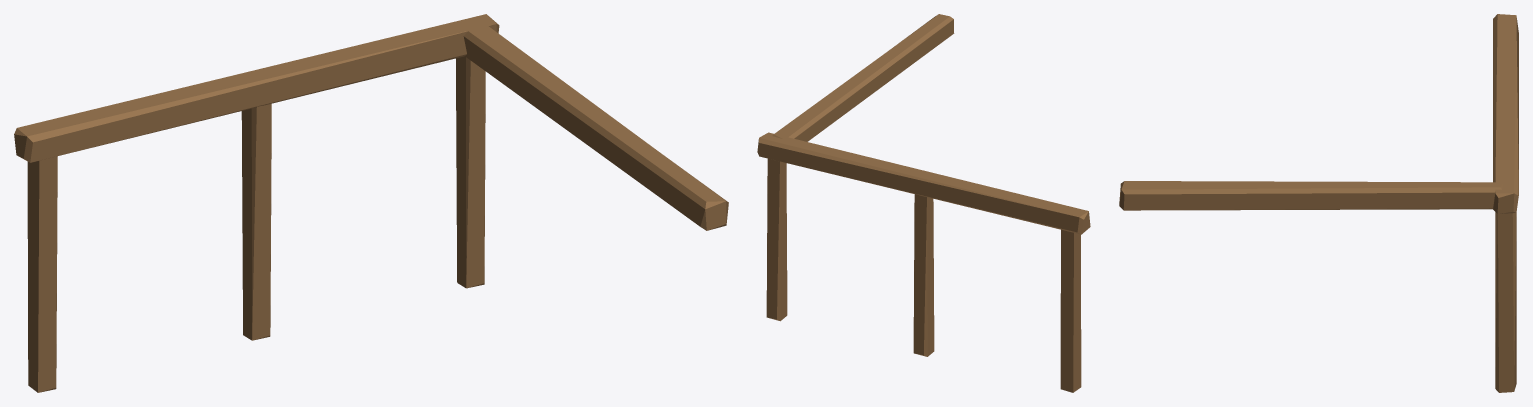
File: harbor-railing-corner.lod1.glb
3 renders of one model, left to right at view 1: azimuth 30°, elevation 25°; view 2: azimuth 150°, elevation 25°; view 3: azimuth 270°, elevation 25°, orthographic. The views are drawn at different scales.
Visible parts, largest first — view 1: harbor-railing-corner__body; view 2: harbor-railing-corner__body; view 3: harbor-railing-corner__body.
Part boxes in pixels (box(x1,y1,x2,y2)): harbor-railing-corner__body: box(14, 14, 728, 392); harbor-railing-corner__body: box(757, 14, 1090, 392); harbor-railing-corner__body: box(1119, 14, 1518, 392).
Bounding box in the file's own units: 2 × 1.05 × 1.86.
